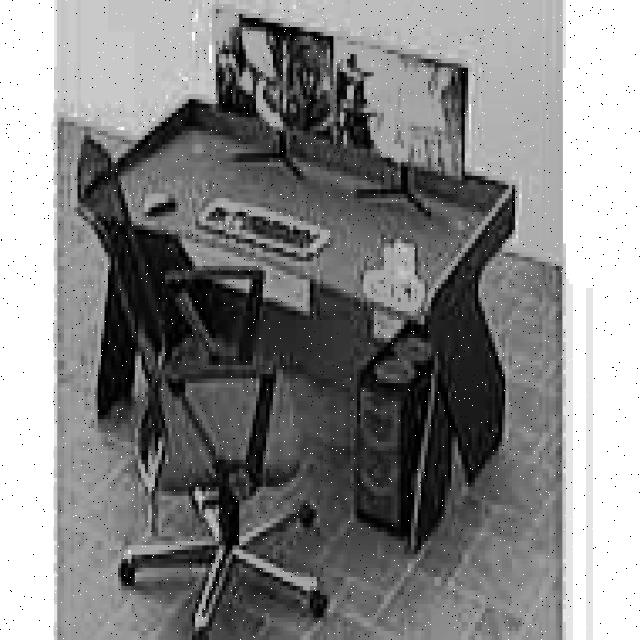table: (108, 95, 519, 550)
